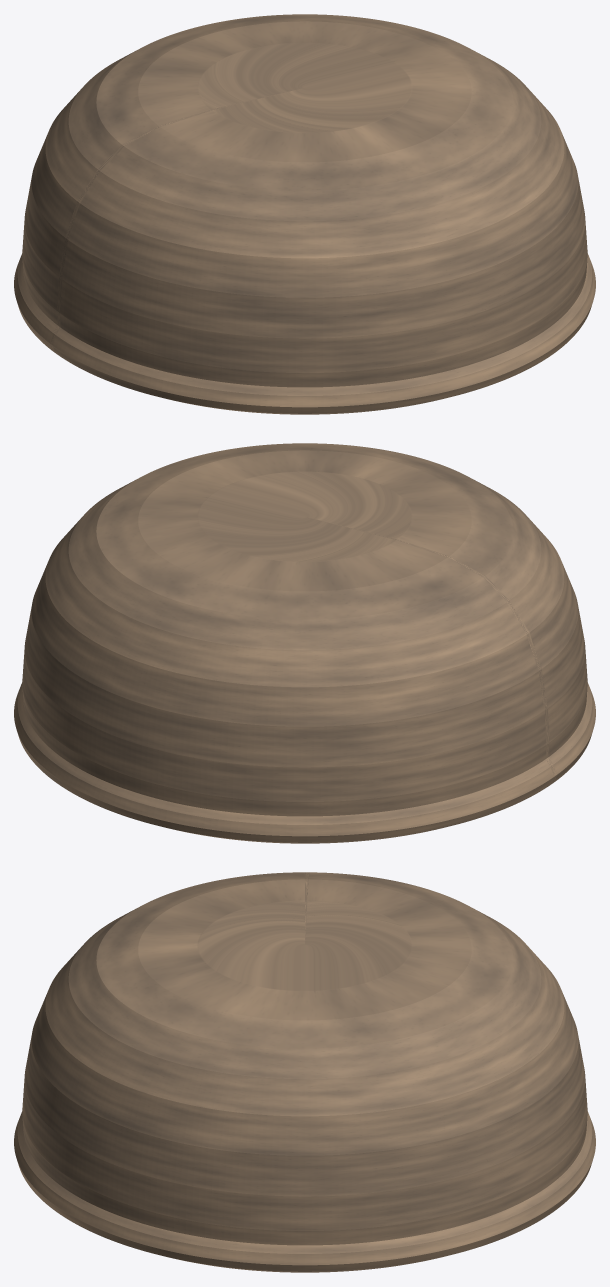
Rendered from dye_vat_refined_material.glb.
The picture shows the model from 3 angles, top to bottom: view 1: azimuth 30°, elevation 25°; view 2: azimuth 150°, elevation 25°; view 3: azimuth 270°, elevation 25°; orthographic projection.
Visible parts, largest first — view 1: dye_vat_body; view 2: dye_vat_body; view 3: dye_vat_body.
Boxes of the visible parts, x1,y1,x2,y2 form: dye_vat_body: (14,14,595,414); dye_vat_body: (14,443,595,843); dye_vat_body: (14,872,595,1272).
Bounding box in the file's own units: 1.26 × 0.505 × 1.26.
2 materials, 2 textured.
